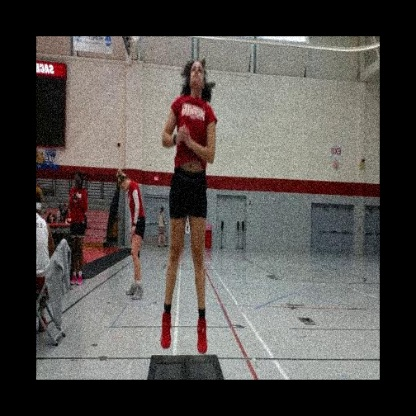lateral_flexion_right: (158, 57, 218, 355)
stance_width_normal: (158, 93, 218, 357)
